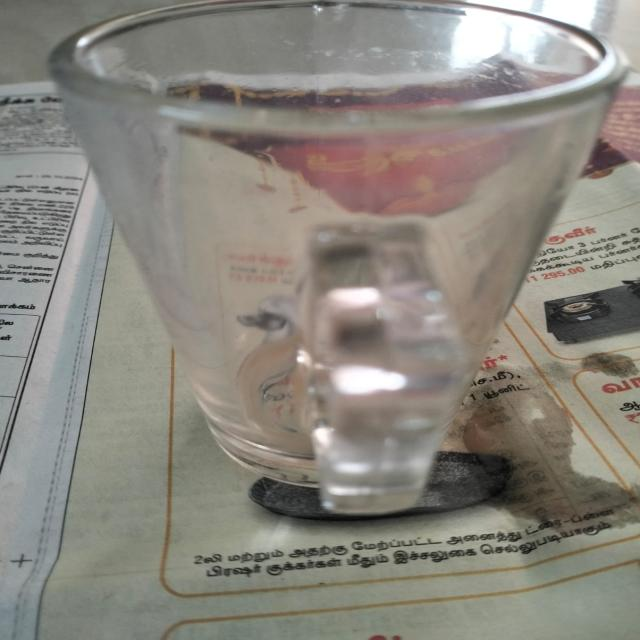glass-VX4N: (44, 0, 627, 509)
